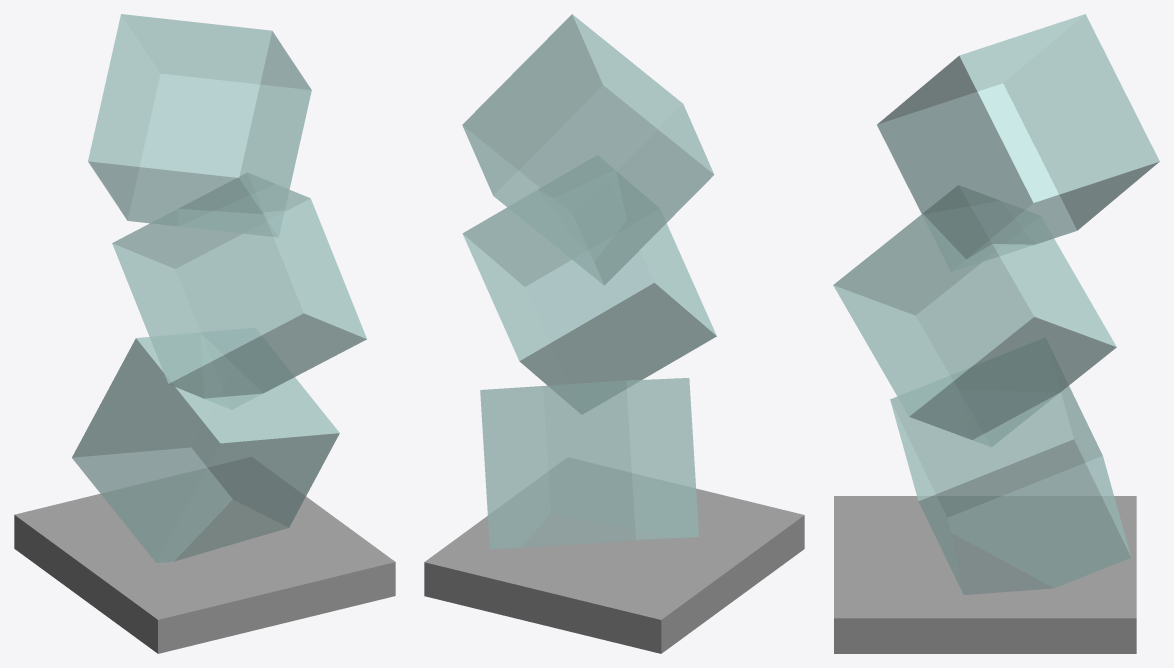
The model's file is Beeld_kunst_1.fbx.
3 views of the same model, side by side, from view 1: azimuth 30°, elevation 25°; view 2: azimuth 150°, elevation 25°; view 3: azimuth 270°, elevation 25° (orthographic). The views are drawn at different scales.
Visible parts, largest first — view 1: Kunst1; view 2: Kunst1; view 3: Kunst1.
Part boxes in pixels (x1,y1,x2,y2): Kunst1: [14, 14, 395, 653]; Kunst1: [424, 14, 804, 653]; Kunst1: [833, 14, 1159, 653].
Bounding box in the file's own units: 1.46 × 3.01 × 1.58.
